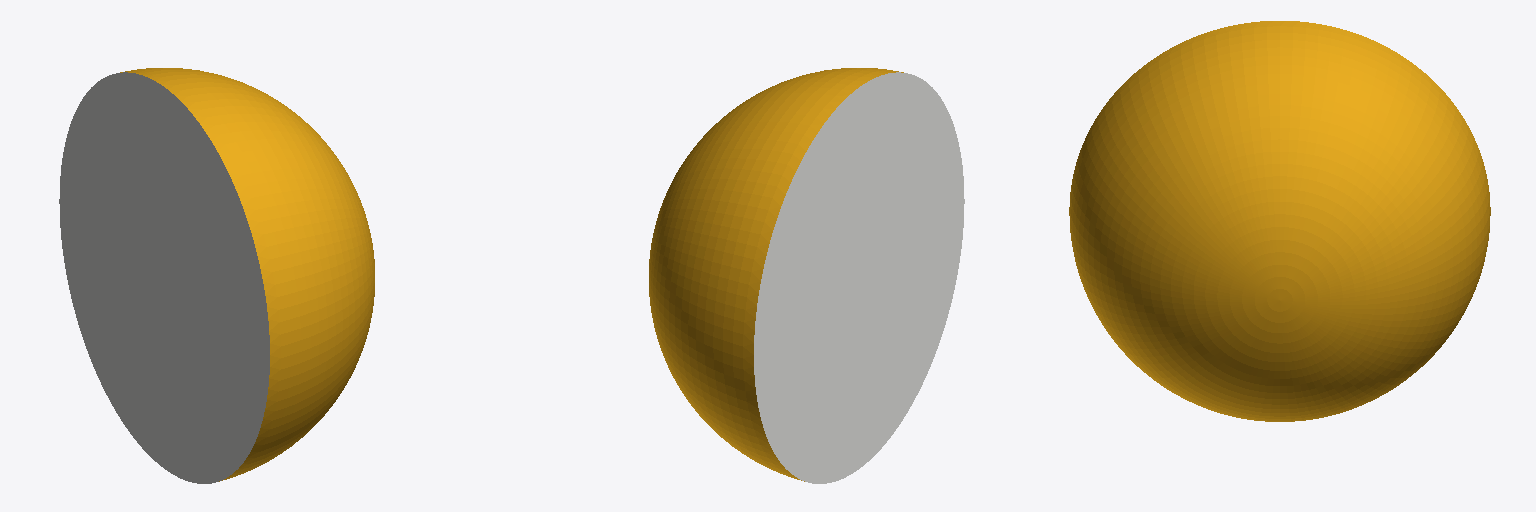
Rendered from half_yellow.obj.
3 views of the same model, side by side, from view 1: azimuth 30°, elevation 25°; view 2: azimuth 150°, elevation 25°; view 3: azimuth 270°, elevation 25° (orthographic).
Parts seen in each view (by area): view 1: Body1; view 2: Body1; view 3: Body1.
Part boxes in pixels (bbox=[...]): Body1: bbox=[59, 68, 374, 483]; Body1: bbox=[649, 68, 964, 483]; Body1: bbox=[1069, 21, 1490, 421].
Size of the model in its own units: 2.5 by 5 by 5.